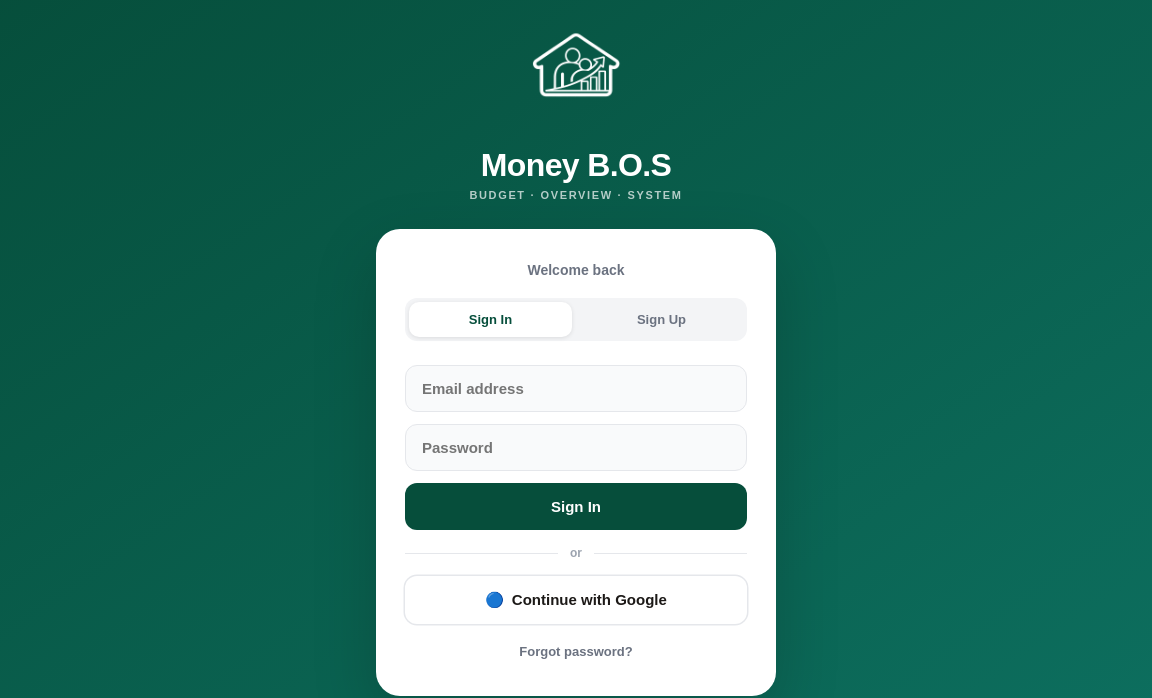
Test: AuthScreen — forgot password › shows the check-your-email confirmation after sending
The width and height of the screenshot is (1152, 698).
Click the button with test id "forgot-password-btn": (576, 652) [515,640,637,663]
(page scrolled)
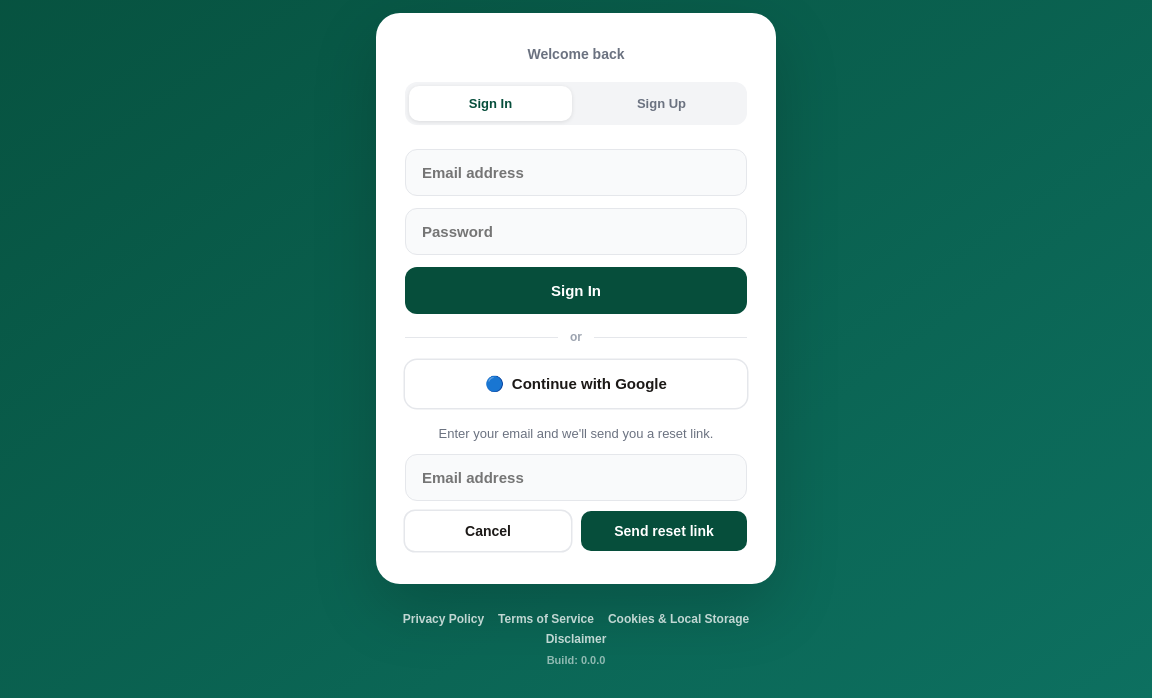
In the field with test id "forgot-email-input": (576, 477) [405,454,747,501], type "a@b.com"
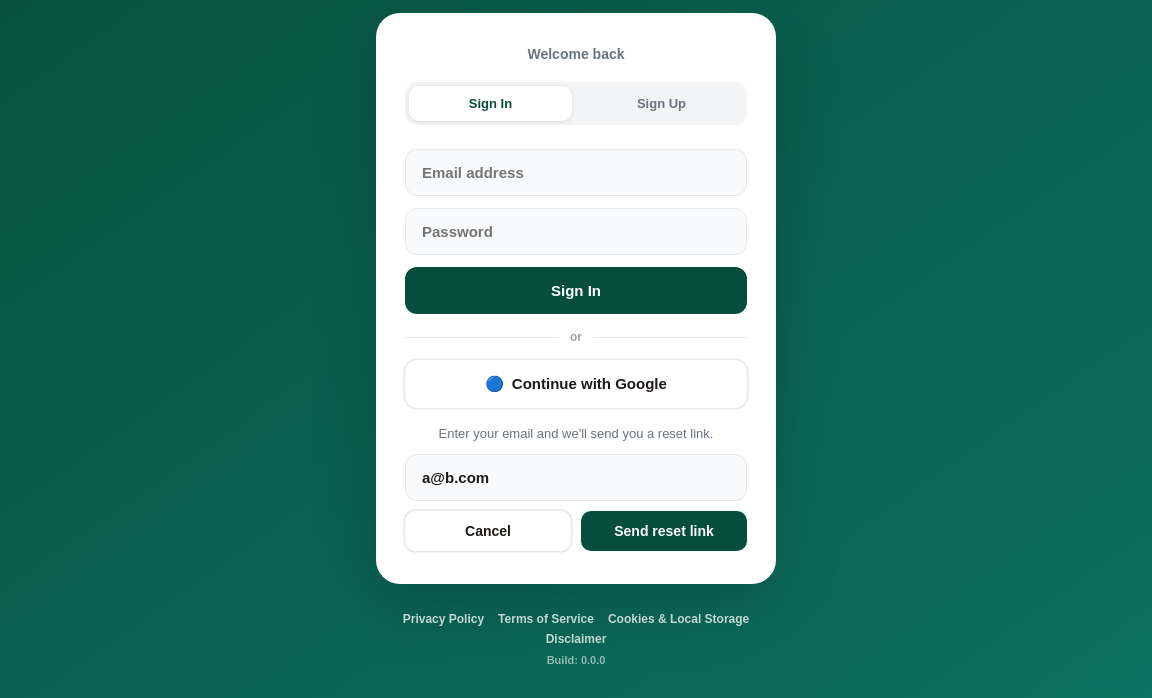
Click the button with test id "forgot-password-send-btn": (664, 531) [581,511,747,551]
(page scrolled)
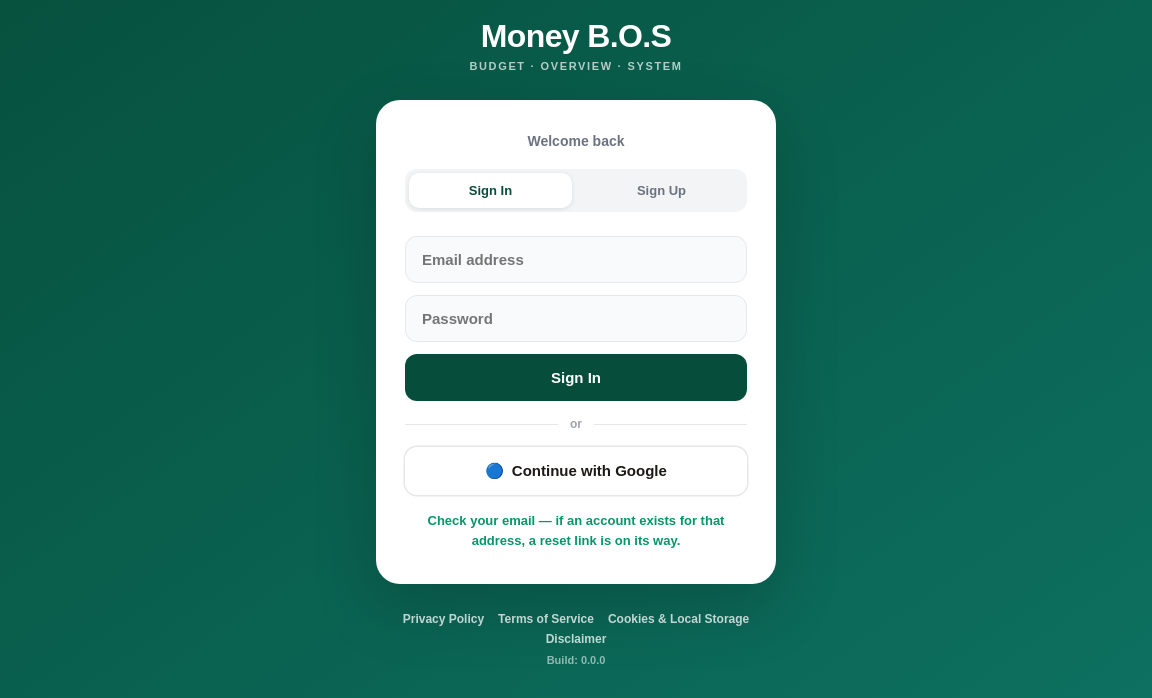
expect the text with test id "forgot-password-sent" is shown: met, box [405,511,747,552]
